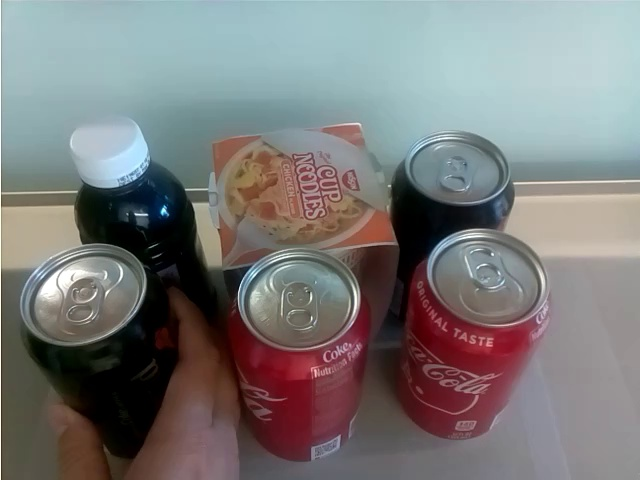cocacola: (401, 230, 552, 442), (227, 249, 369, 465)
cocacola-zero: (17, 239, 183, 456), (391, 129, 511, 238)
hand: (43, 298, 241, 480)
juice: (68, 118, 211, 326)
noodles: (201, 116, 401, 333)
